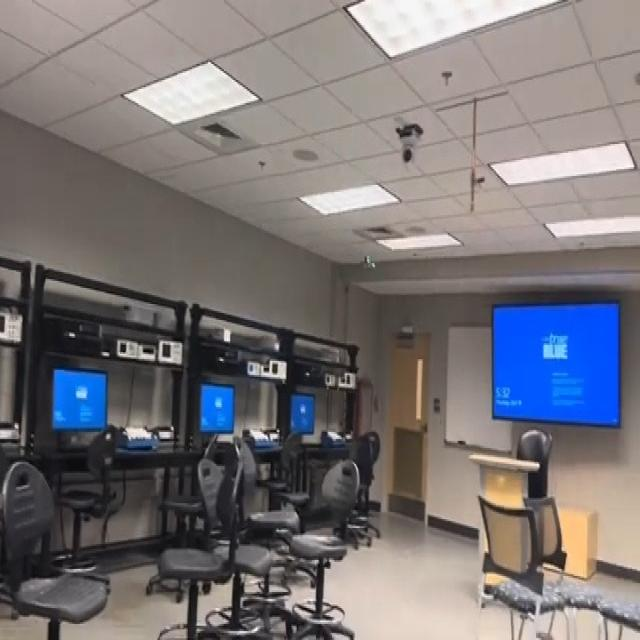drone: (352, 239, 381, 282)
